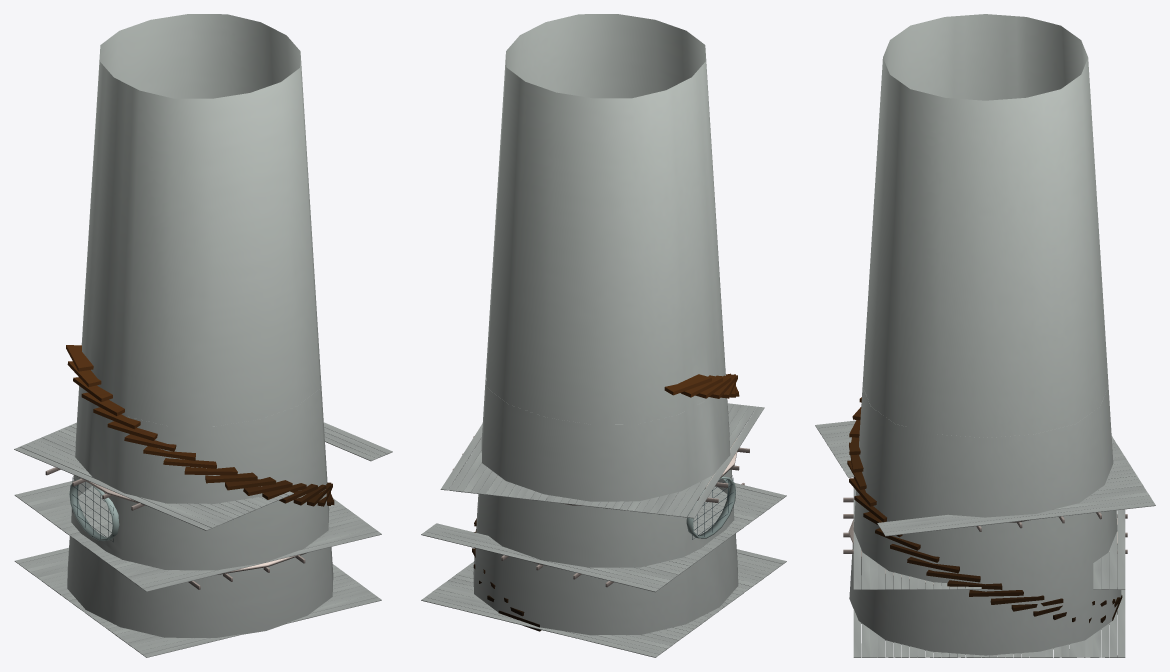
Rendered from VuurtorenGebouw.fbx.
3 renders of one model, left to right at view 1: azimuth 30°, elevation 25°; view 2: azimuth 150°, elevation 25°; view 3: azimuth 270°, elevation 25°, orthographic. The views are drawn at different scales.
Parts seen in each view (by area): view 1: VuurtortenWalls, Plane.010, GiantWindowframe; view 2: VuurtortenWalls, Plane.010, GiantWindowframe; view 3: VuurtortenWalls, Plane.010.
Boxes of the visible parts, <box> form: VuurtortenWalls: <box>67,14,333,638</box>; Plane.010: <box>14,345,392,657</box>; GiantWindowframe: <box>69,479,119,540</box>; VuurtortenWalls: <box>473,14,738,635</box>; Plane.010: <box>421,373,786,657</box>; GiantWindowframe: <box>686,476,735,538</box>; VuurtortenWalls: <box>849,14,1121,655</box>; Plane.010: <box>815,397,1155,657</box>.
Bounding box in the file's own units: 1866 × 3352 × 1900.
